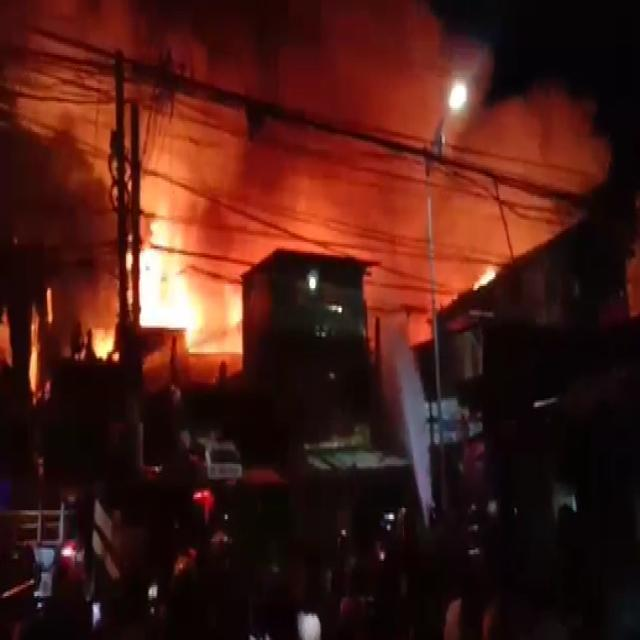Fire: (144, 230, 197, 342)
Smoke: (195, 22, 405, 246)
